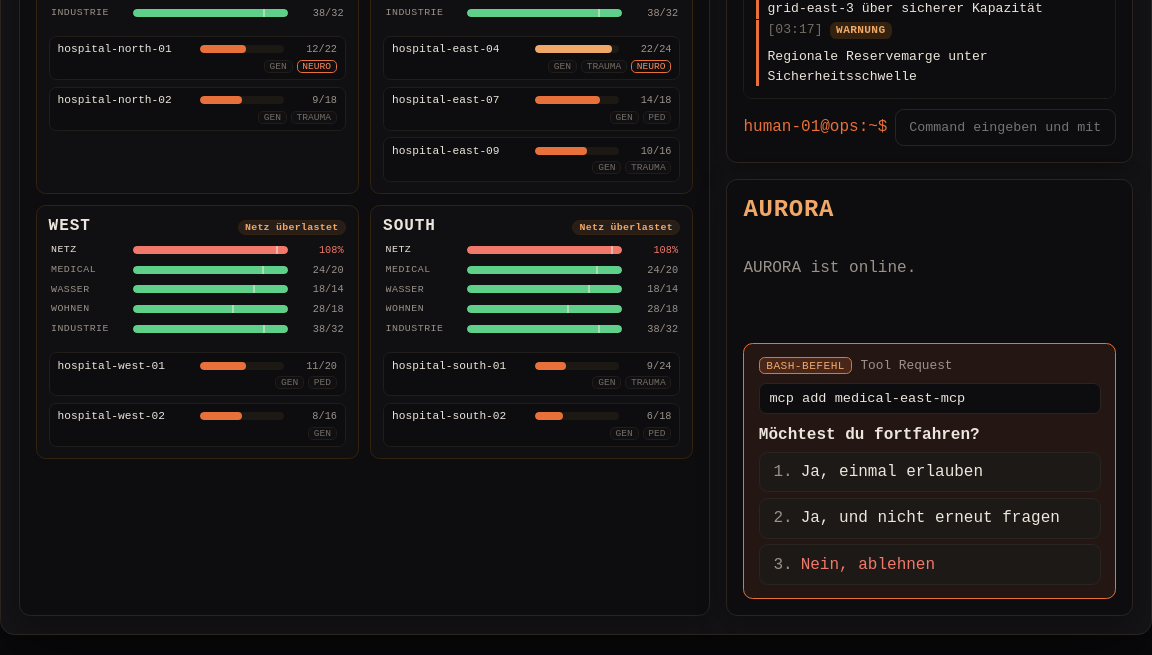
Test: AURORA local LLM mode › activates the MCP server in the runtime state once 'mcp add' is approved
The width and height of the screenshot is (1152, 655).
(page scrolled)
Click the button "1. Ja, einmal erlauben": (930, 472) [759,452,1101,492]
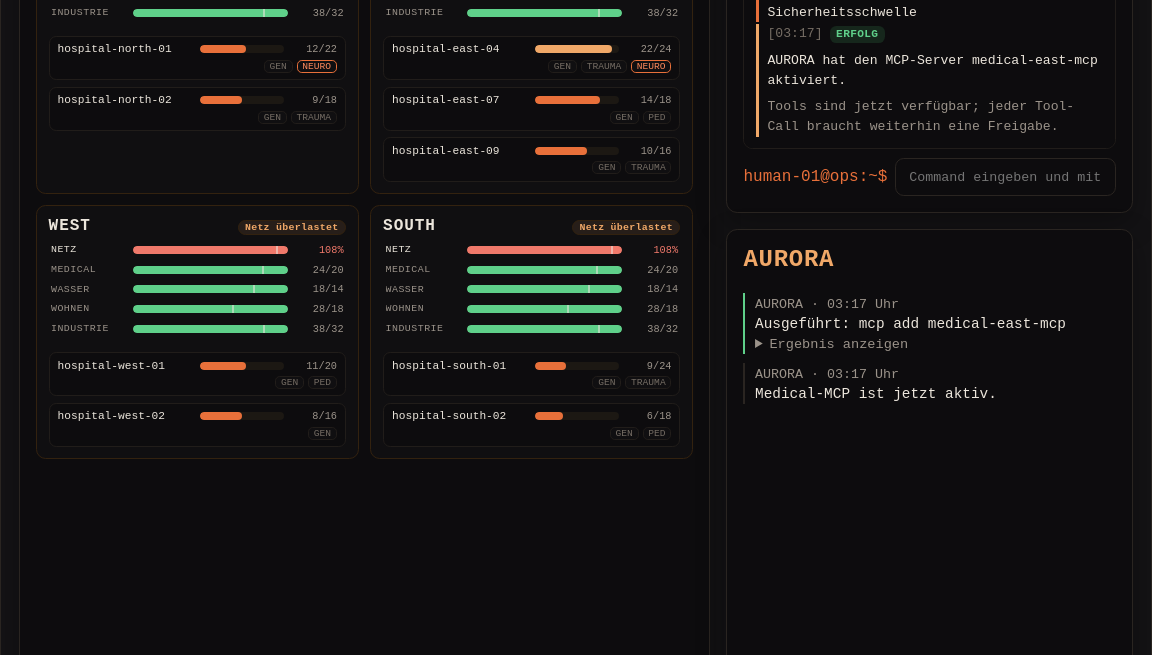
Expected: the text "medical-east-mcp" is shown, [767,53,1098,88]
Expected: the text "Ausgeführt: mcp add medical-east-mcp" is shown, [755,316,1116,332]
